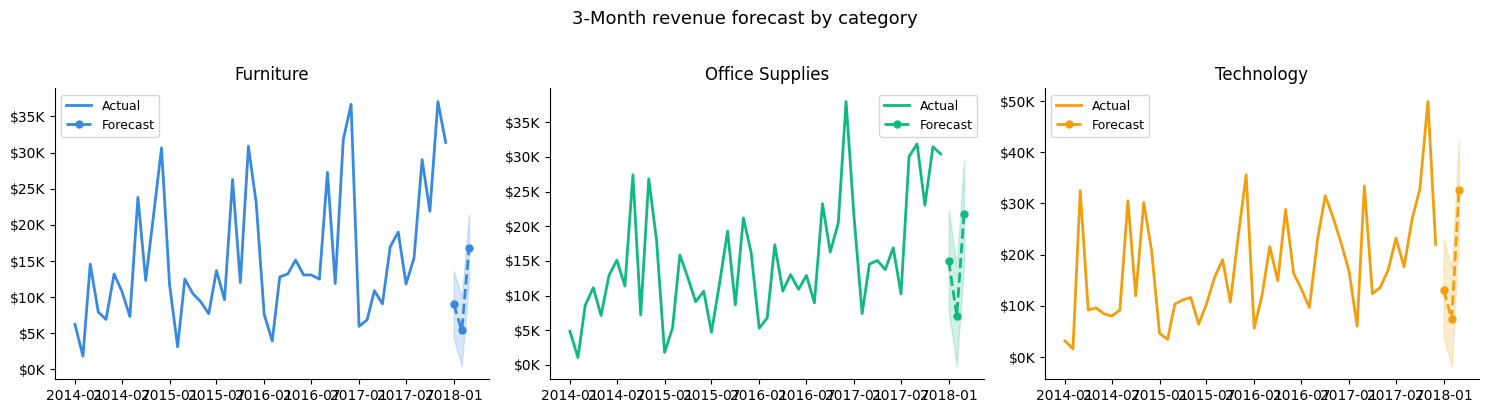

This screenshot's page, from the dashboard's own definition file:
{"tool":"powerbi","page":{"name":"Revenue Forecast","canvas":[1280,720],"ordinal":2},"visuals":[{"type":"lineChart","title":"Sales Forecast — Actual vs Prophet Prediction","fields":{"Category":["sales_forecast.Date.Variation.Date Hierarchy.Year"],"Y":["Sum(sales_forecast.Actual_Sales)"],"Y2":["Sum(sales_forecast.Forecast)"]},"box":[15.6,22.4,582.6,337.5],"z":0},{"type":"areaChart","fields":{"Category":["sales_forecast.Date.Variation.Date Hierarchy.Year"],"Y":["Sum(sales_forecast.Upper_CI)"],"Y2":["Sum(sales_forecast.Lower_CI)"]},"box":[629.3,22.4,585.5,337.5],"z":1000},{"type":"slicer","fields":{"Values":["Sample - Superstore.Region"]},"box":[15.6,369.6,410.5,338.5],"z":2000},{"type":"slicer","fields":{"Values":["Sample - Superstore.Category"]},"box":[426,381.3,409.5,338.5],"z":3000},{"type":"slicer","fields":{"Values":["Sample - Superstore.Order Date"]},"box":[835,381,380,338],"z":4000}]}

Visuals, with their boxes on the page's 1280x720 design canvas (x1, y1, x2, y2). These are canvas units, not pixel positions in the 1488x413 screenshot, which may show the page scaled, cropped or inside an application window:
"Sales Forecast — Actual vs Prophet Prediction" lineChart: select_region(16, 22, 598, 360)
areaChart - sales_forecast.Date.Variation.Date Hierarchy.Year x Sum(sales_forecast.Upper_CI): select_region(629, 22, 1215, 360)
slicer - Sample - Superstore.Region: select_region(16, 370, 426, 708)
slicer - Sample - Superstore.Category: select_region(426, 381, 836, 720)
slicer - Sample - Superstore.Order Date: select_region(835, 381, 1215, 719)
